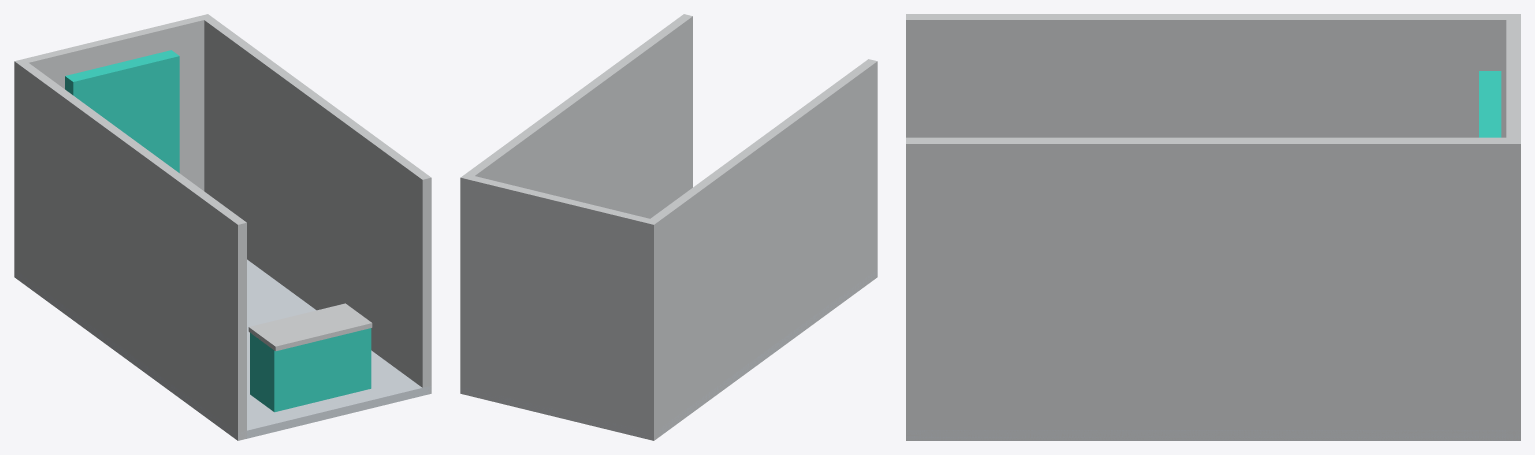
3 views of the same model, side by side, from view 1: azimuth 30°, elevation 25°; view 2: azimuth 150°, elevation 25°; view 3: azimuth 270°, elevation 25° (orthographic). The views are drawn at different scales.
Visible parts, largest first — view 1: Exhibition Booth Concept; view 2: Exhibition Booth Concept; view 3: Exhibition Booth Concept.
Boxes of the visible parts, bbox=[...] form: Exhibition Booth Concept: bbox=[14, 14, 431, 440]; Exhibition Booth Concept: bbox=[460, 14, 877, 440]; Exhibition Booth Concept: bbox=[906, 14, 1520, 440].
Bounding box in the file's own units: 3 × 3.2 × 6.
